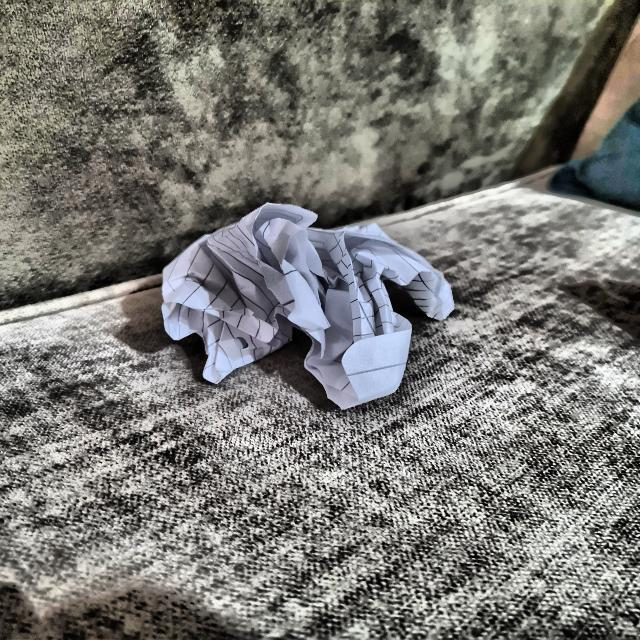Paper: (157, 200, 452, 407)
